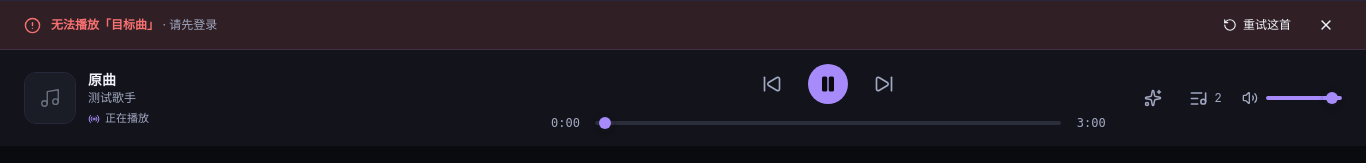
Test: 加载新曲时说明旧曲仍在播放，回滚后的恢复按钮重试失败歌曲
expect the text "正在加载 ·「原曲」仍在播放" is shown: met, box [105,111,149,126]
expect the text "无法播放「目标曲」" is shown: met, box [51,16,159,34]
Click the button "重试这首": (1257, 25) [1214,10,1300,40]
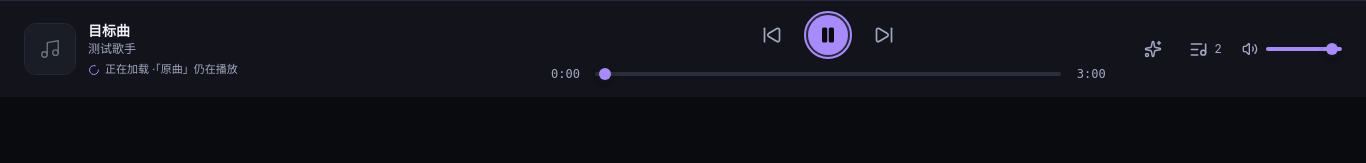
expect the text "无法播放「目标曲」" is gone: met
